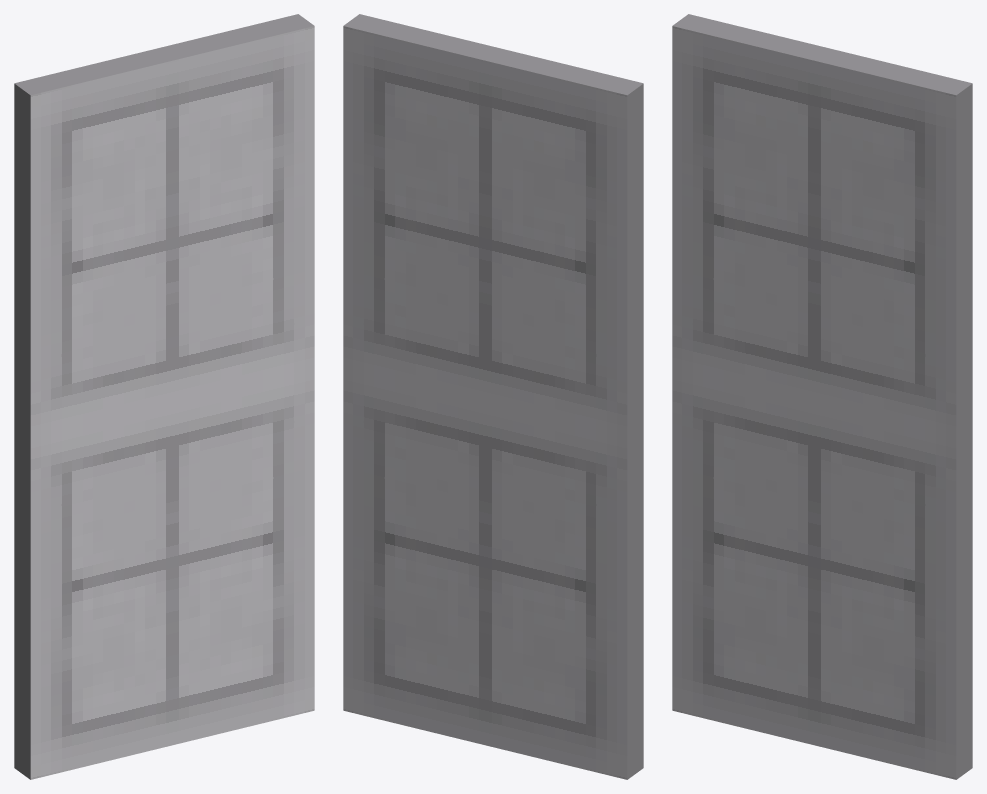
File: Door1.glb
3 views of the same model, side by side, from view 1: azimuth 30°, elevation 25°; view 2: azimuth 150°, elevation 25°; view 3: azimuth 330°, elevation 25° (orthographic).
Parts seen in each view (by area): view 1: Cube.099; view 2: Cube.099; view 3: Cube.099.
Boxes of the visible parts, bbox=[...] form: Cube.099: bbox=[14, 14, 314, 779]; Cube.099: bbox=[343, 14, 643, 779]; Cube.099: bbox=[672, 14, 972, 779].
Size of the model in its own units: 4 by 9.21 by 0.4.
1 material, 1 textured.
